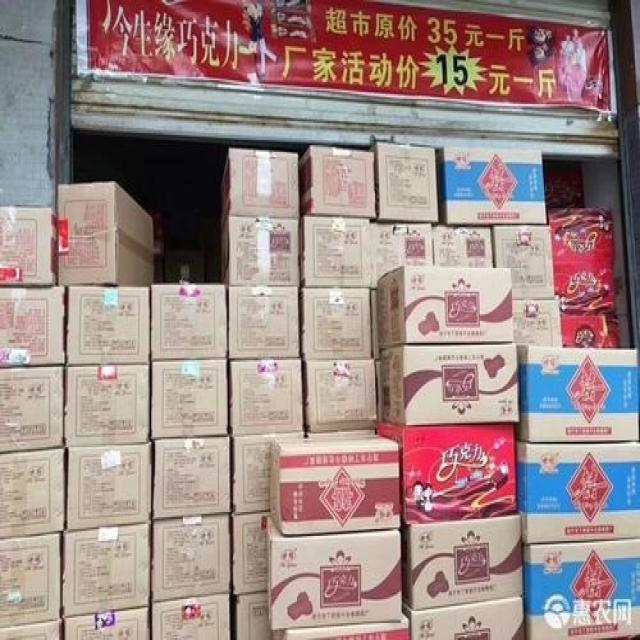box: (267, 516, 401, 629), (376, 422, 518, 523), (269, 434, 400, 535), (516, 439, 638, 543), (517, 344, 639, 441), (380, 342, 519, 425), (402, 515, 523, 609), (523, 540, 639, 638), (377, 265, 513, 347), (58, 182, 153, 286), (63, 524, 150, 618), (437, 148, 546, 223), (67, 442, 152, 531), (219, 148, 299, 235), (65, 365, 148, 446), (154, 515, 230, 601), (67, 286, 149, 365), (153, 437, 229, 518), (151, 359, 228, 438), (151, 284, 227, 359), (219, 216, 300, 286), (299, 146, 376, 219), (233, 433, 304, 512), (0, 534, 60, 627), (0, 449, 63, 537), (370, 142, 439, 221), (299, 215, 373, 288), (231, 360, 303, 435), (0, 367, 63, 452), (302, 360, 376, 431), (0, 286, 65, 366), (229, 286, 300, 358), (301, 288, 372, 359), (403, 597, 524, 638), (0, 205, 58, 286), (493, 226, 554, 300), (371, 222, 433, 288), (152, 593, 230, 638), (280, 612, 410, 638), (233, 511, 270, 594), (65, 607, 150, 638), (431, 226, 493, 267), (512, 300, 562, 346), (236, 591, 280, 638), (0, 620, 60, 638)
